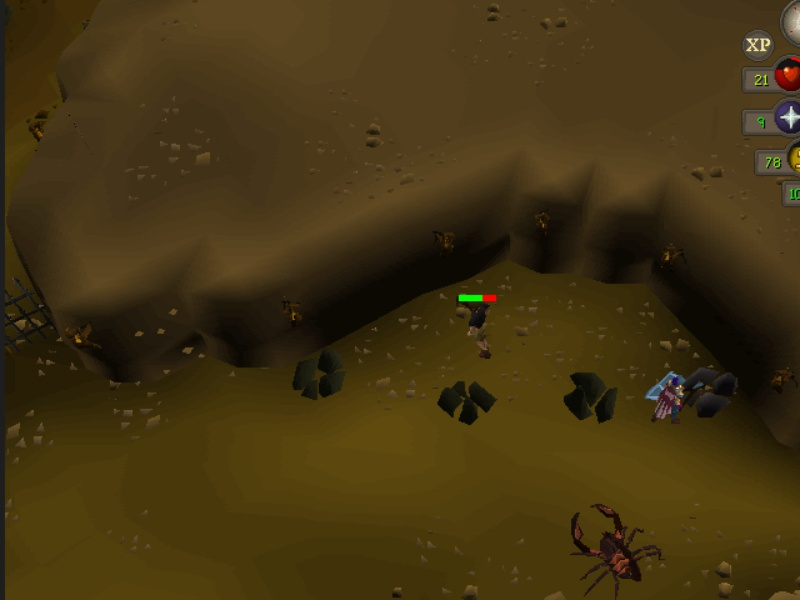coal: (290, 342, 354, 404), (433, 373, 501, 428), (561, 366, 623, 426)
